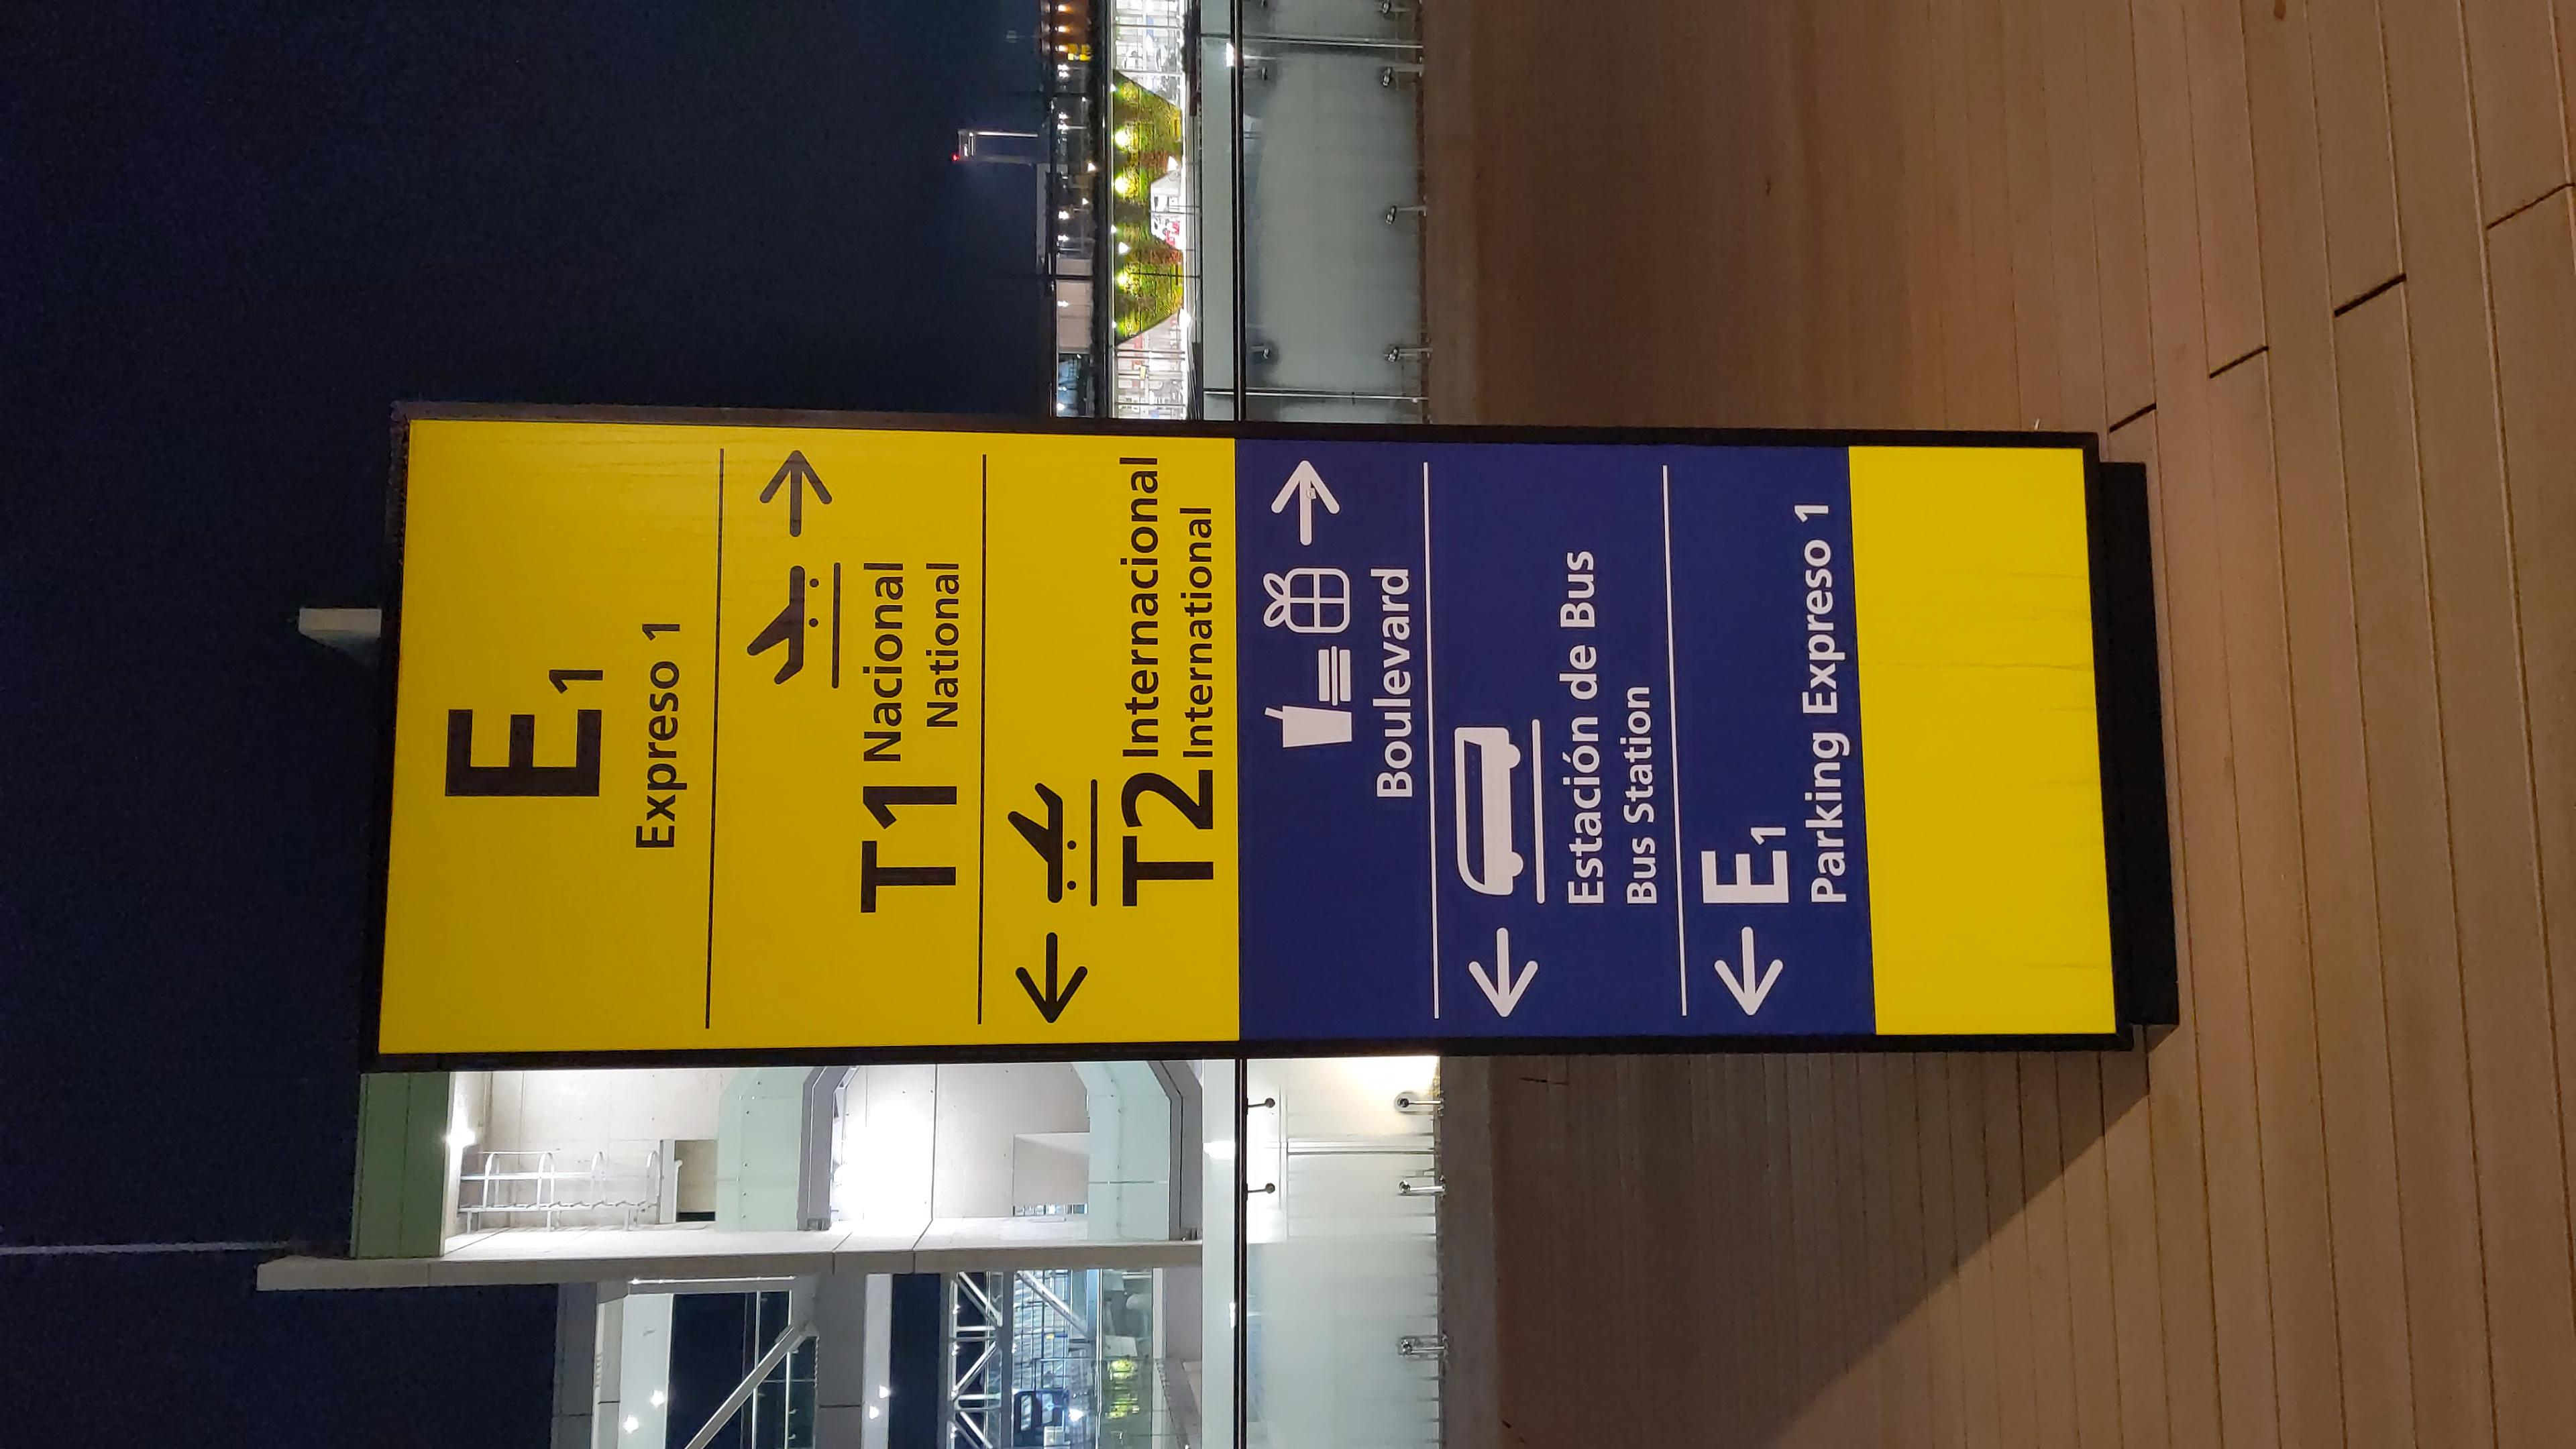airplane symbol: (964, 564, 1196, 600), (1357, 418, 1575, 455)
thin left arrow: (752, 570, 927, 612), (766, 962, 938, 1005), (766, 824, 934, 867)
thin right arrow: (1617, 425, 1782, 471), (1606, 715, 1760, 754)
